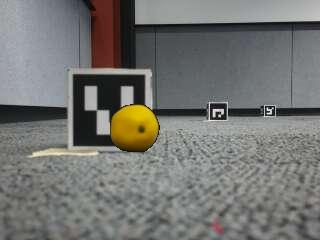lemon: (110, 105, 157, 152)
